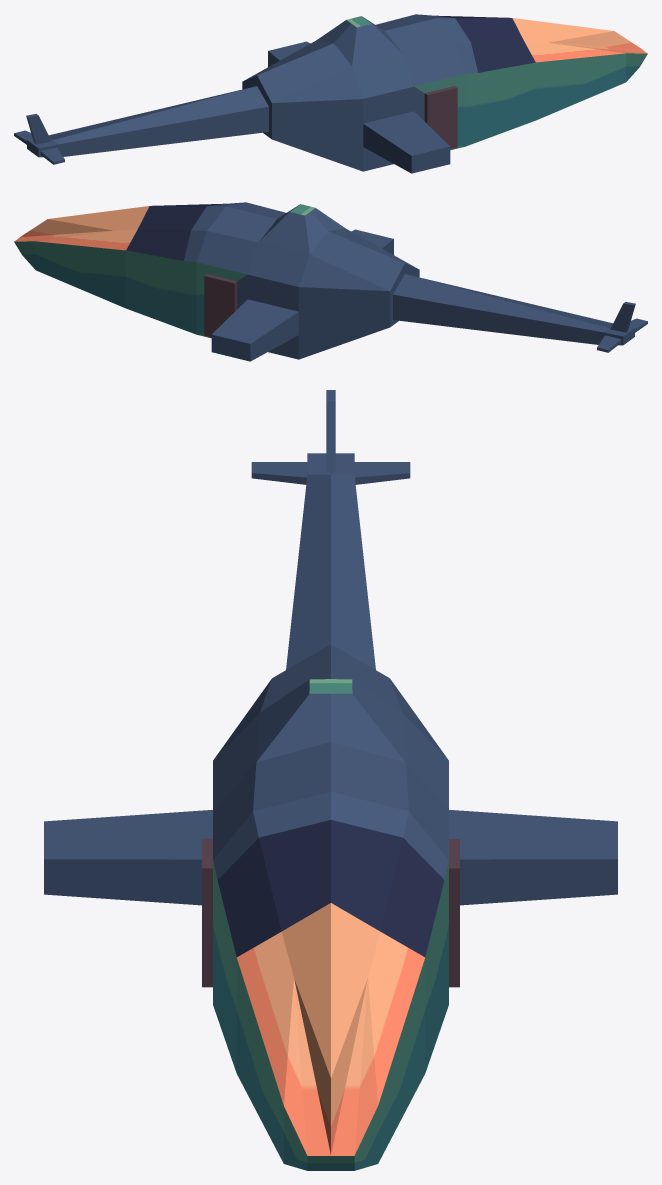
The model's file is FriendlyHeliBody.fbx.
The picture shows the model from 3 angles, top to bottom: view 1: azimuth 30°, elevation 25°; view 2: azimuth 150°, elevation 25°; view 3: azimuth 270°, elevation 25°; orthographic projection. The views are drawn at different scales.
Visible parts, largest first — view 1: FriendlyHeliBody; view 2: FriendlyHeliBody; view 3: FriendlyHeliBody.
Part boxes in pixels (x1,y1,x2,y2): FriendlyHeliBody: (14, 14, 647, 173); FriendlyHeliBody: (14, 202, 647, 361); FriendlyHeliBody: (44, 390, 617, 1170).
Size of the model in its own units: 2410 by 457 by 974.
